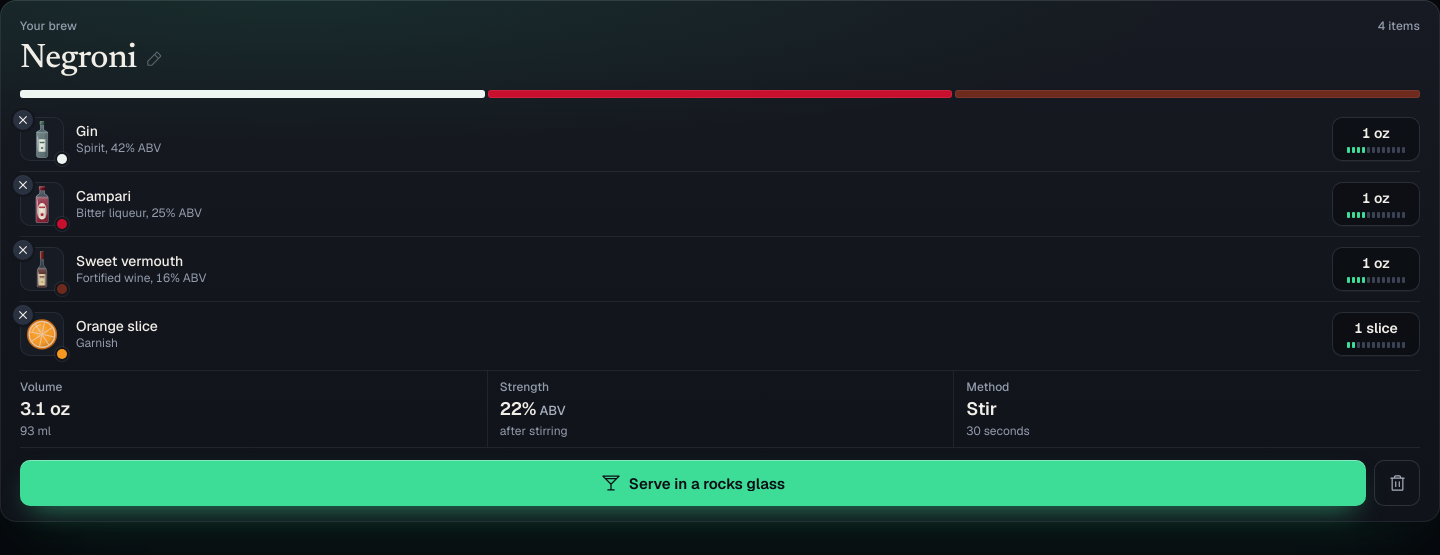
RecipeCard › renames inline: Enter commits, Escape cancels
Click the button "Negroni": [78, 59] box [20,40,1420,78]
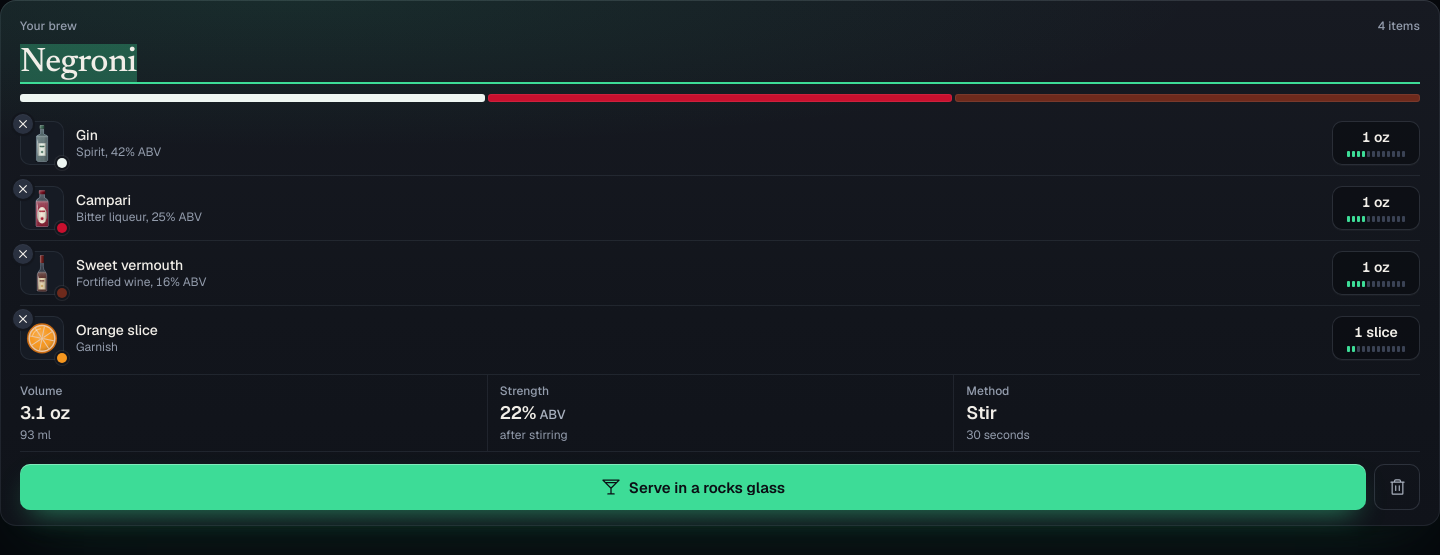
Replace the text in the field named "Brew name" with "My negroni": [720, 63] box [20,44,1420,82]
Then press Enter
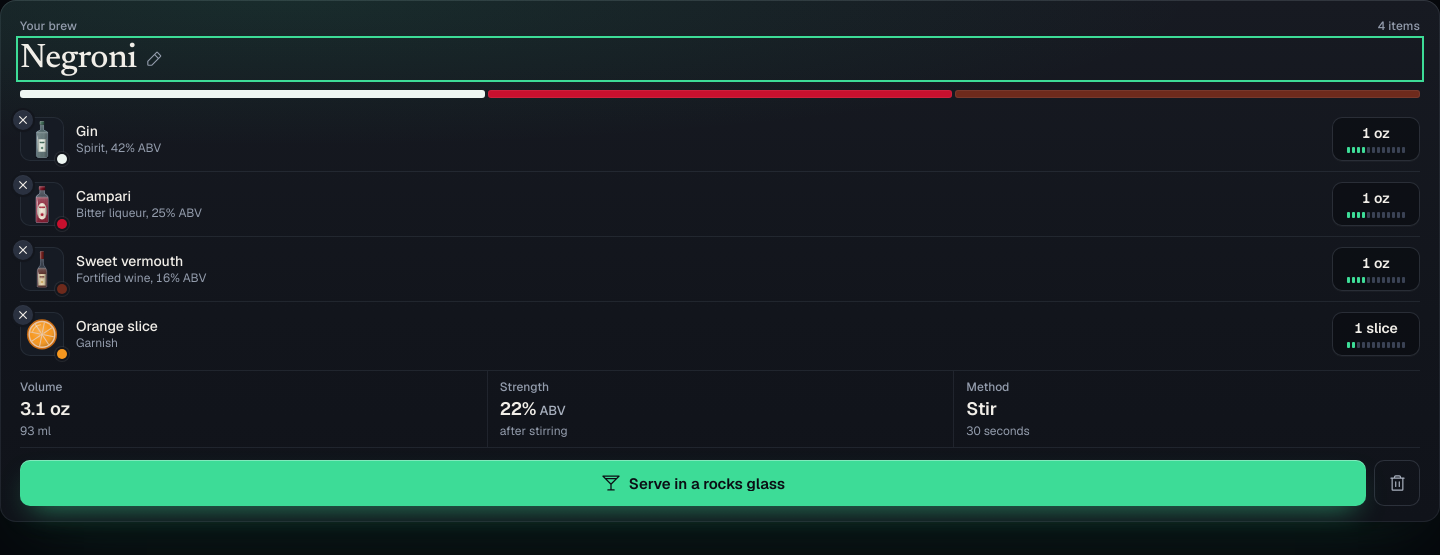
Click the button "Negroni": [78, 59] box [20,40,1420,78]
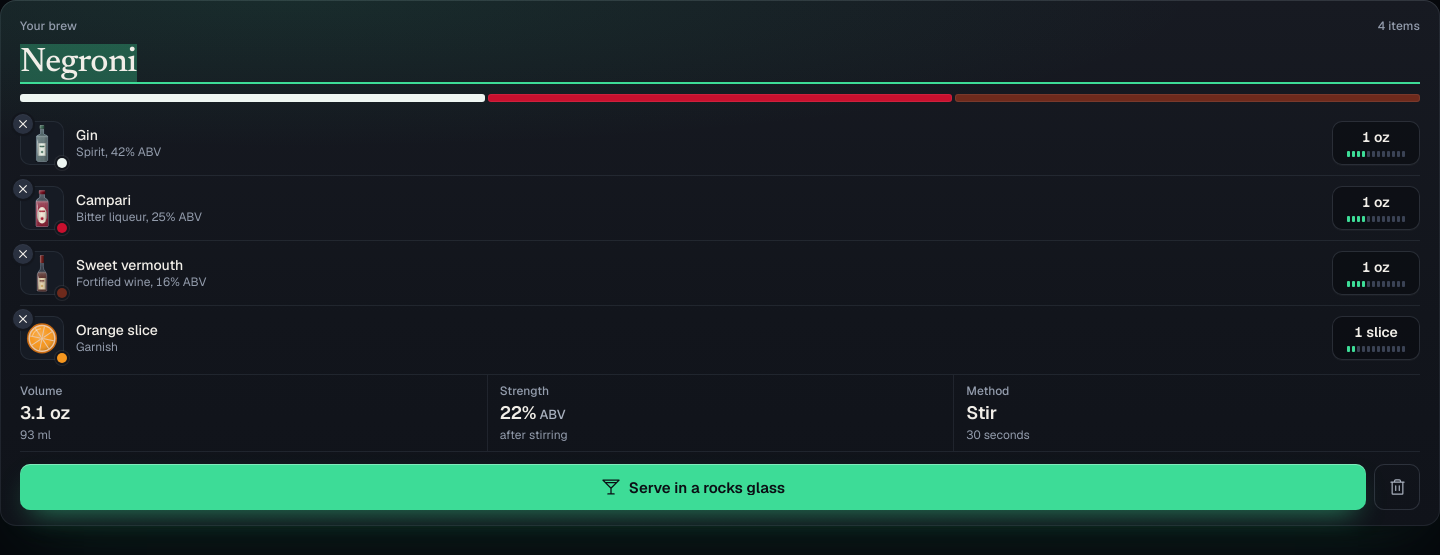
In the field named "Brew name": [720, 63] box [20,44,1420,82], type "xyz"
Then press Escape
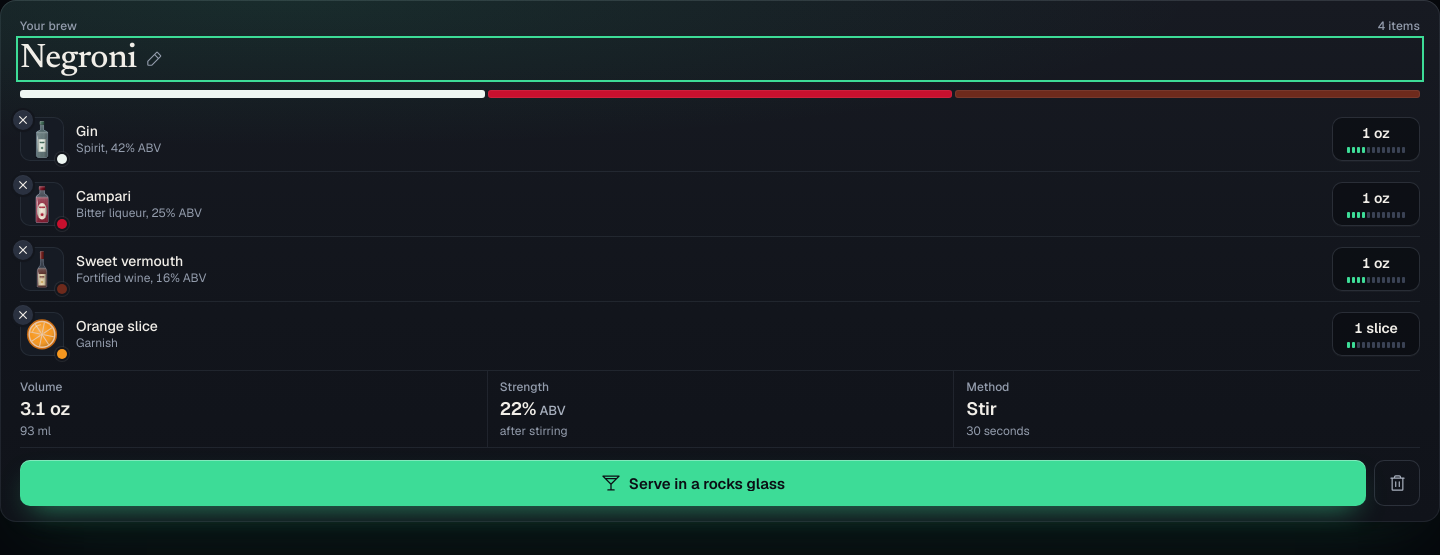
Expected: the field is gone
